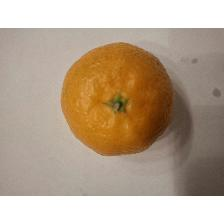Mandarine: (57, 38, 177, 160)
